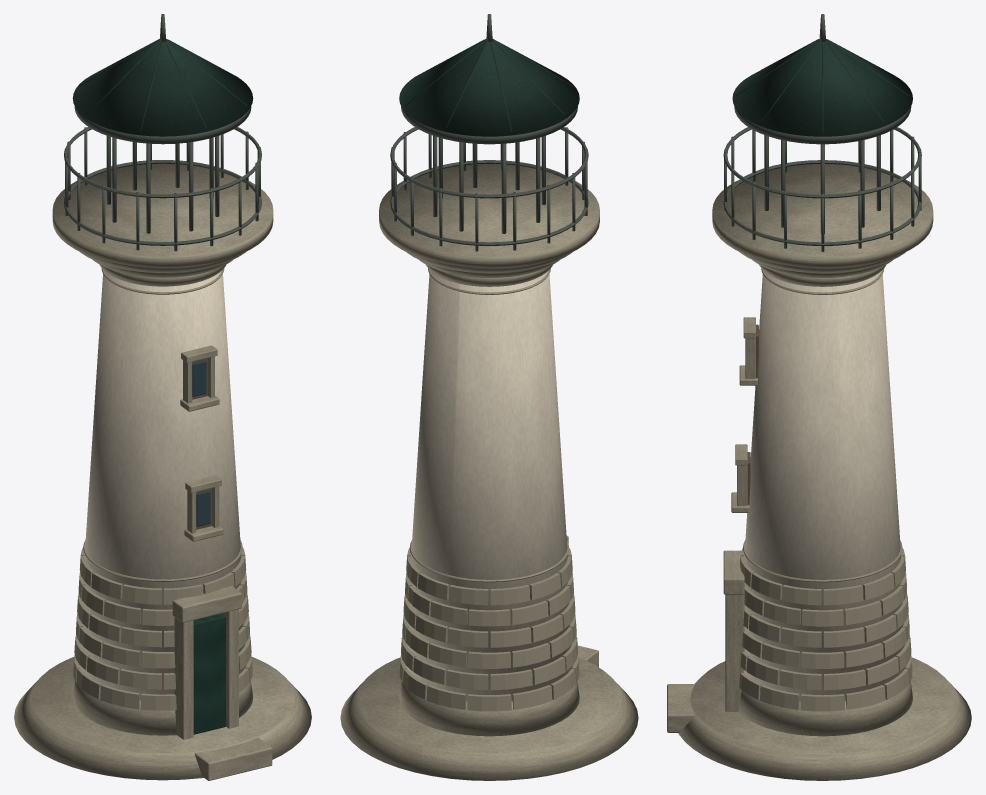
Rendered from coastal-lighthouse.glb.
3 views of the same model, side by side, from view 1: azimuth 30°, elevation 25°; view 2: azimuth 150°, elevation 25°; view 3: azimuth 270°, elevation 25° (orthographic).
Parts seen in each view (by area): view 1: CoastalLighthouseShell, LighthouseDoor; view 2: CoastalLighthouseShell; view 3: CoastalLighthouseShell.
Boxes of the visible parts, x1,y1,x2,y2 form: CoastalLighthouseShell: [14, 14, 311, 780]; LighthouseDoor: [193, 613, 225, 734]; CoastalLighthouseShell: [340, 14, 638, 780]; CoastalLighthouseShell: [667, 14, 971, 780].
Size of the model in its own units: 0.34 by 0.885 by 0.3475.
7 materials, 4 textured.
